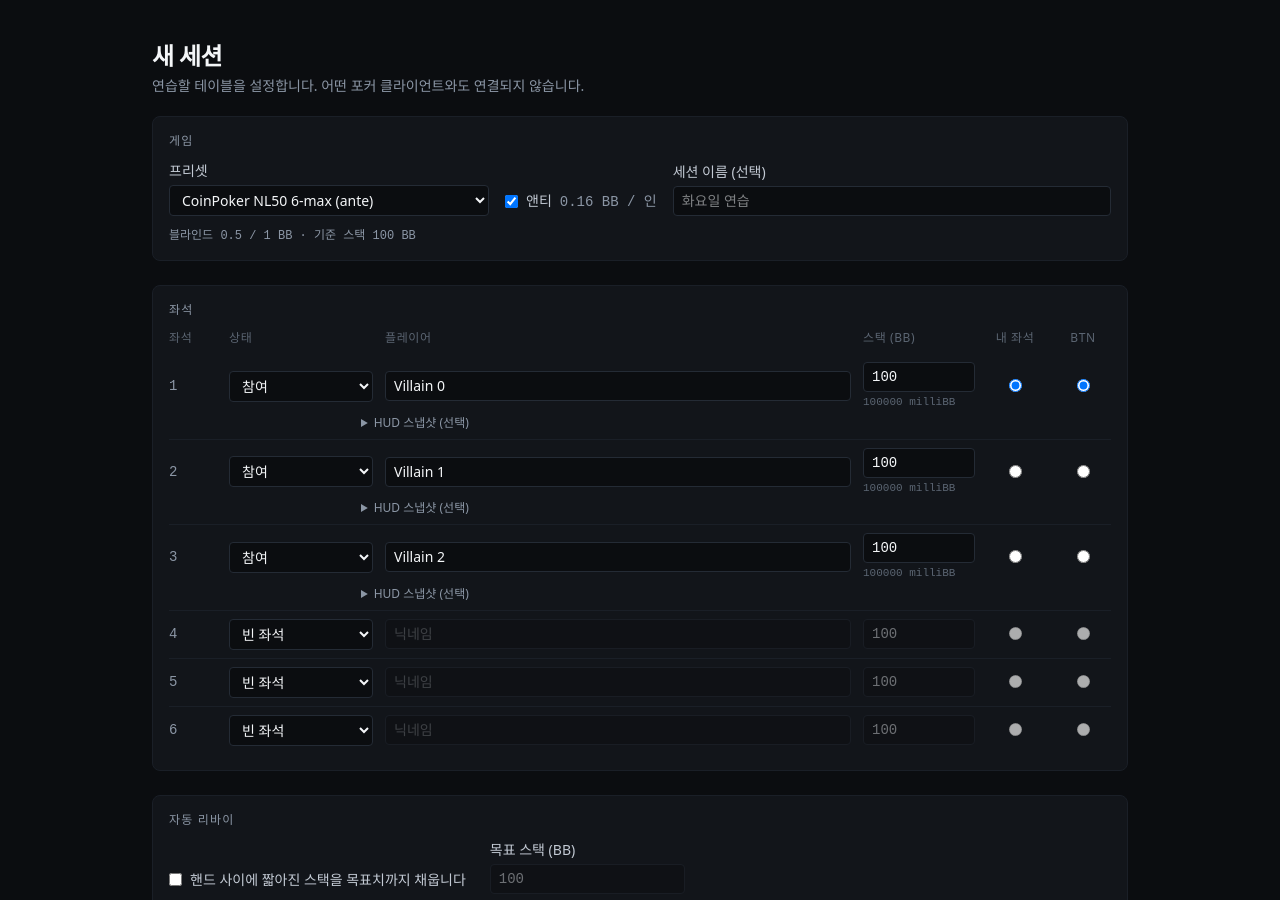
Test: SessionSetupForm › shows the number of milliBB a valid stack means, without rewriting the field
The image size is (1280, 900).
Step 1. Clear the field named "좌석 2 스택 (BB)" → (919, 462), box x1=863 y1=448 x2=975 y2=478
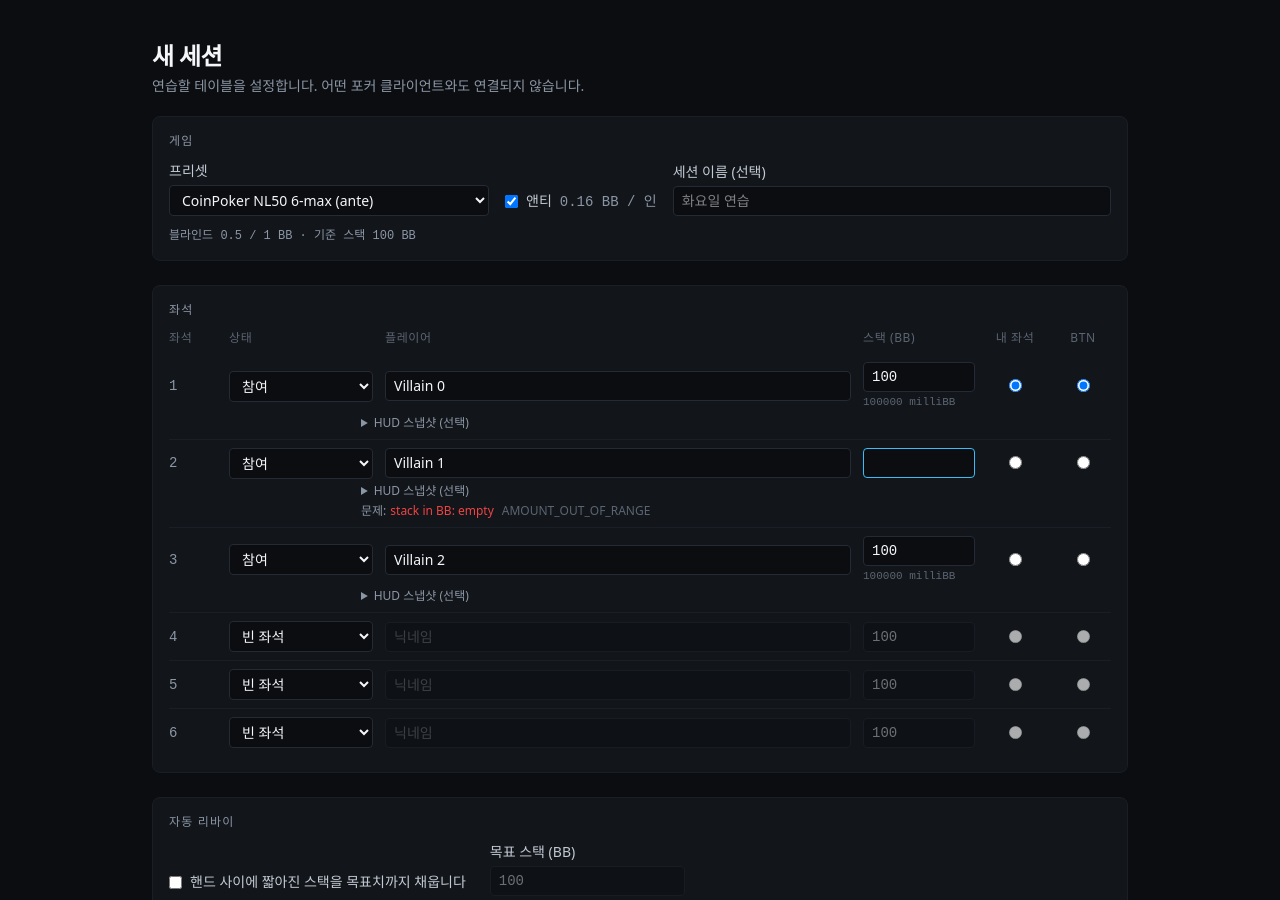
Step 2. Type "93.701" into the field named "좌석 2 스택 (BB)" → (919, 463), box x1=863 y1=448 x2=975 y2=478
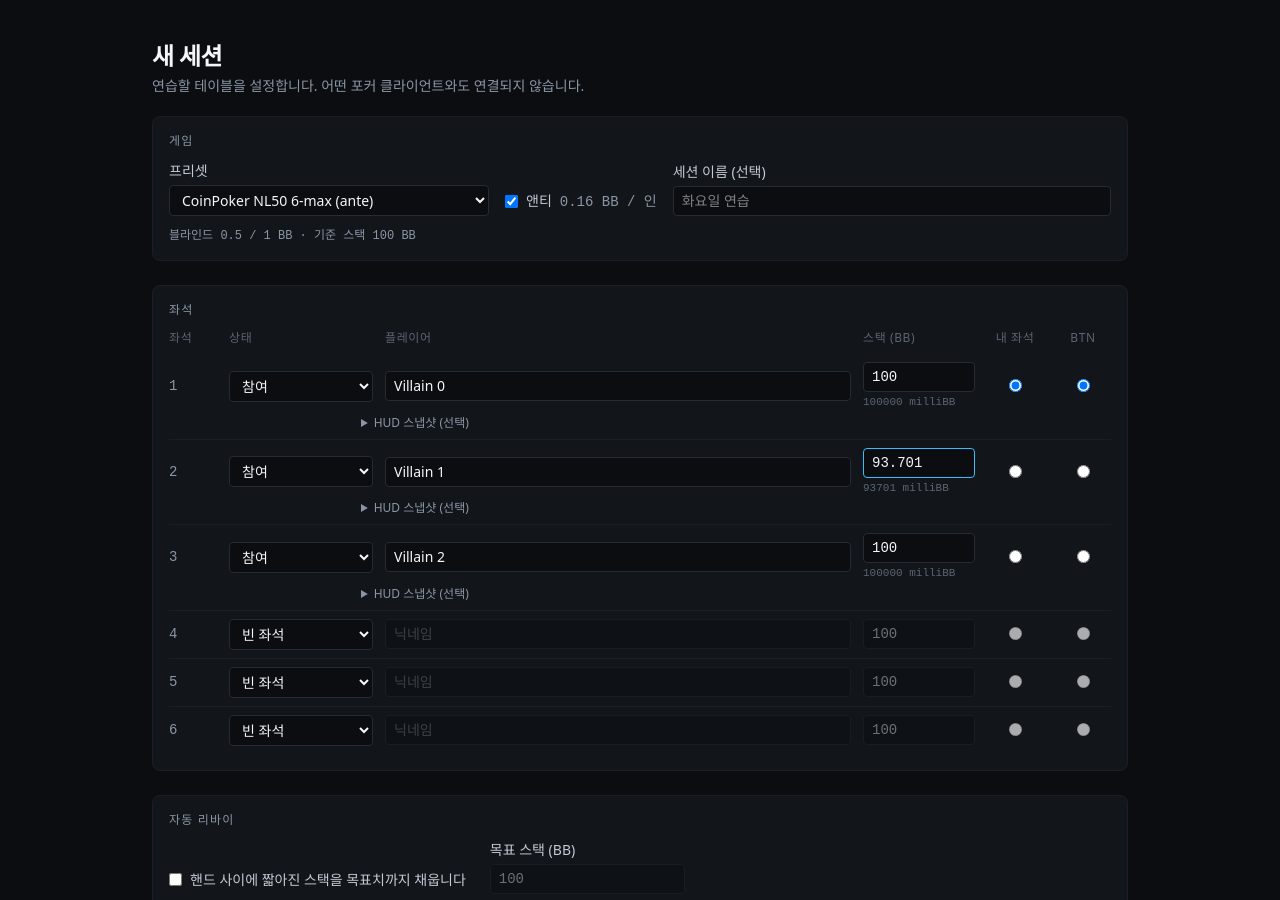
Expected: the text "93701 milliBB" is shown, x1=863 y1=482 x2=949 y2=494
